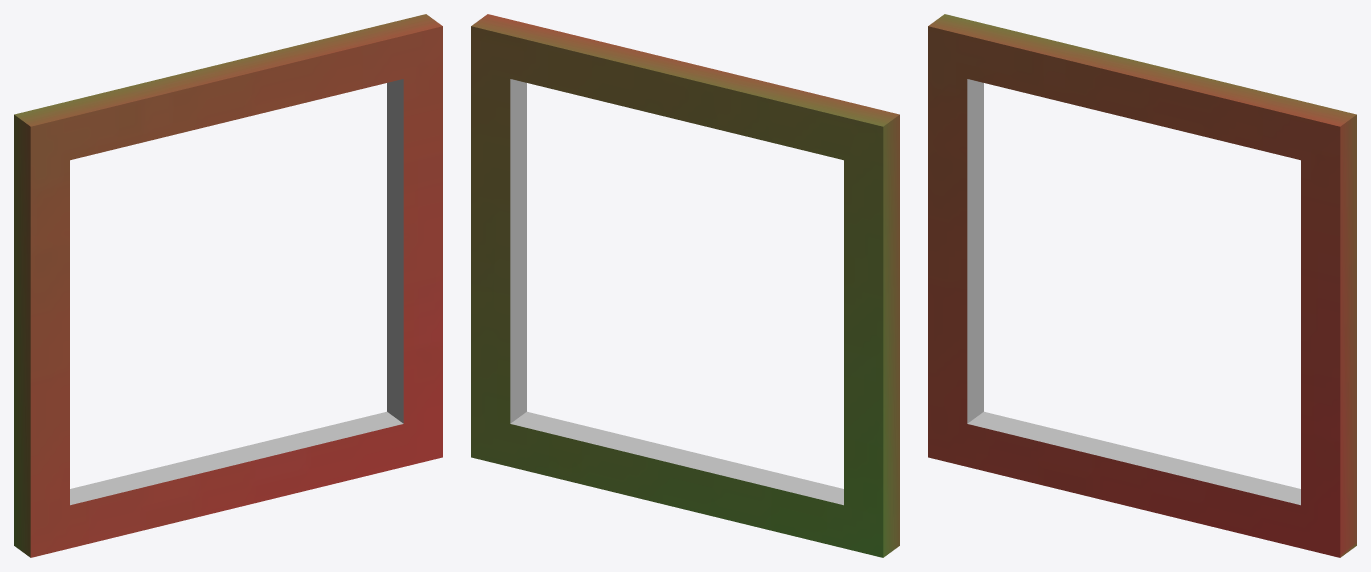
File: reticle_big.obj
3 views of the same model, side by side, from view 1: azimuth 30°, elevation 25°; view 2: azimuth 150°, elevation 25°; view 3: azimuth 330°, elevation 25° (orthographic).
Parts seen in each view (by area): view 1: Cube; view 2: Cube; view 3: Cube.
Part boxes in pixels (left/top/right/bottom): Cube: left=14, top=14, right=442, bottom=557; Cube: left=471, top=14, right=899, bottom=557; Cube: left=928, top=14, right=1356, bottom=557.
Size of the model in its own units: 2 by 2 by 0.14.
Materials: 2 (1 with a texture image).
